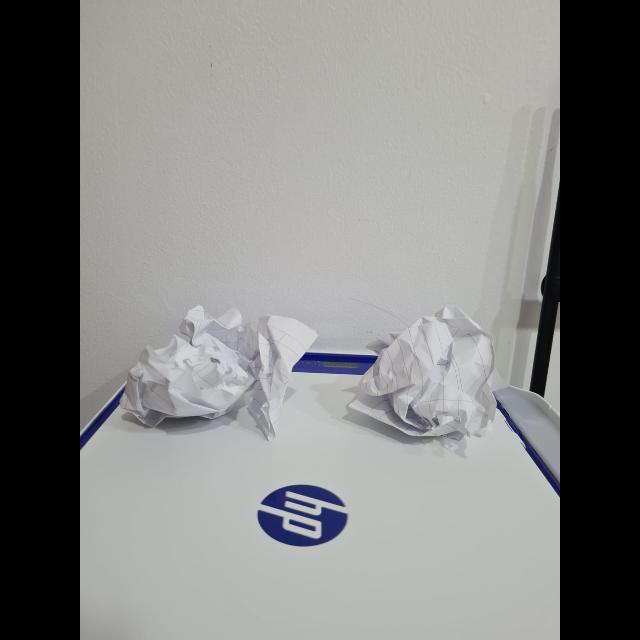scrap_paper: (125, 302, 313, 438), (364, 303, 500, 453)
